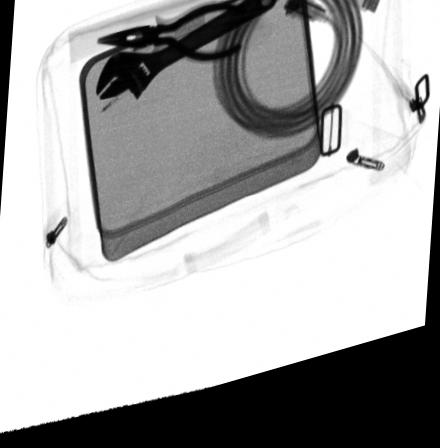Pliers: (94, 12, 245, 73)
Wrench: (93, 0, 278, 109)
